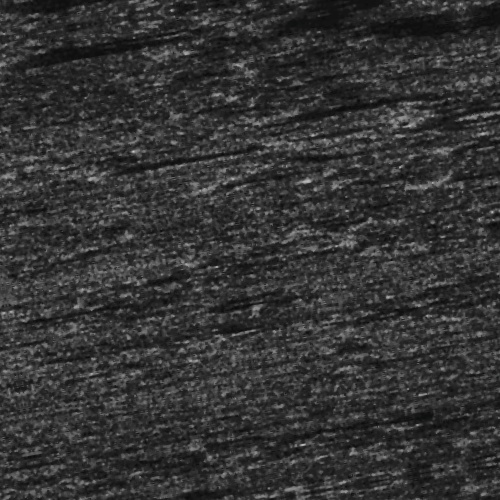object: (270, 117, 333, 130), (4, 14, 57, 29), (410, 208, 463, 217), (178, 176, 219, 183), (107, 146, 138, 151), (318, 377, 339, 382), (481, 152, 500, 157)
shadow: (31, 14, 215, 29), (302, 117, 500, 130), (199, 176, 318, 183), (123, 146, 275, 151), (437, 208, 500, 217), (329, 377, 411, 382)
